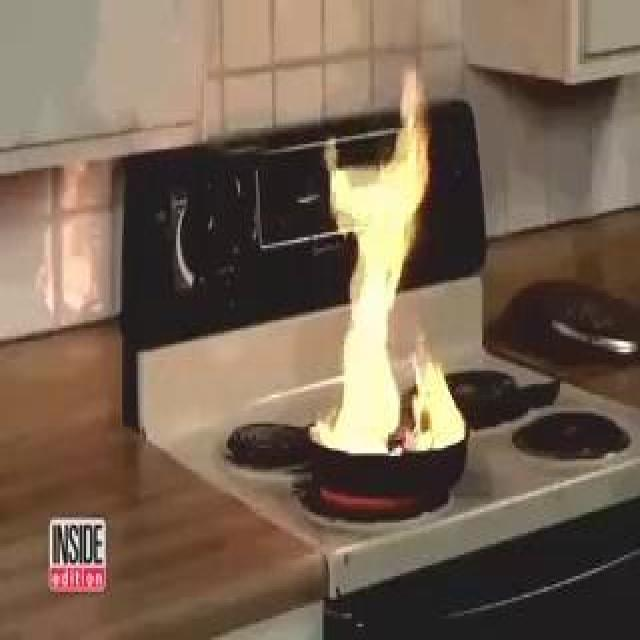Fire: (168, 262, 389, 392)
